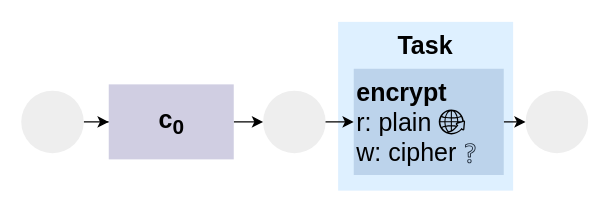
Some shapes in this 610 by 211 pixel diagram are drawn without their labels. The shapes that lost their labels are listed below. From the top down, each one's centre as x and y in pixels, then its label:
point 52,121: start
point 556,121: end
